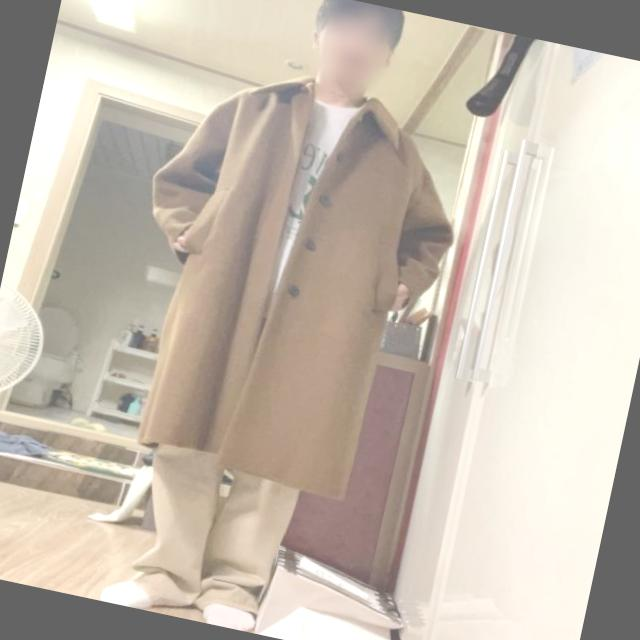coat: (90, 44, 477, 515)
cottonpants: (121, 438, 306, 634)
